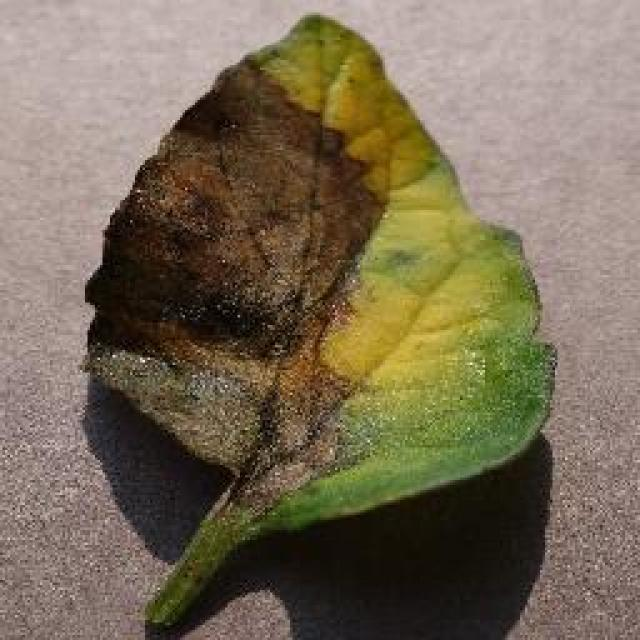Tomato___Late_blight: (82, 12, 555, 638)
